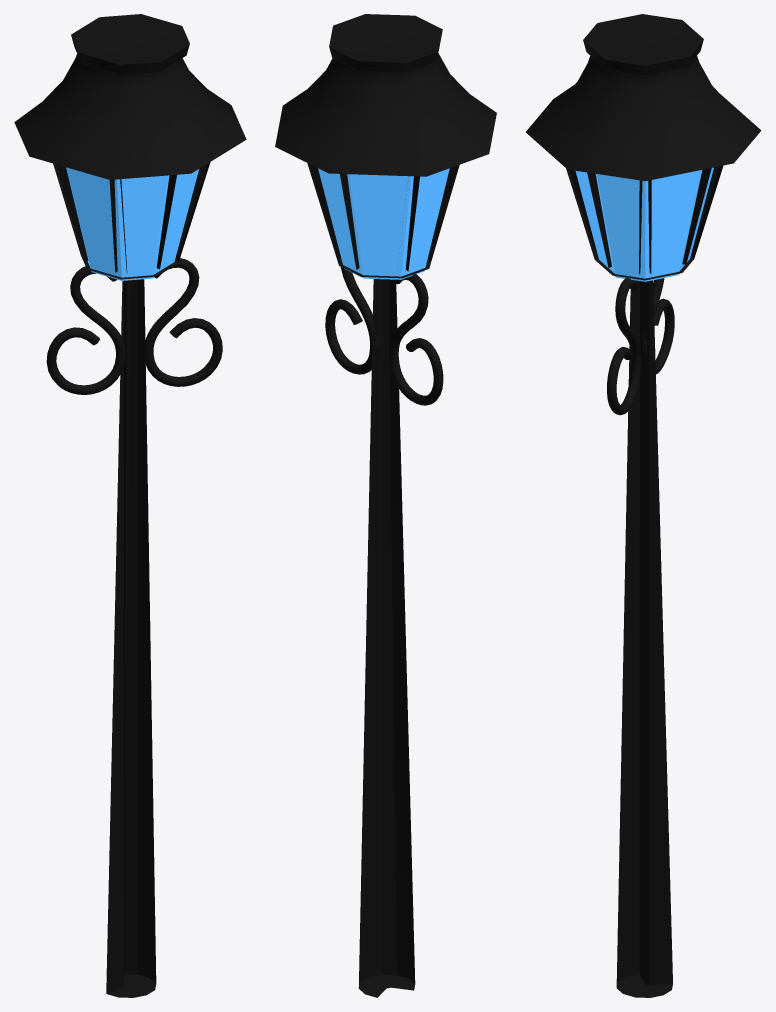
The model's file is lamp.fbx.
3 renders of one model, left to right at view 1: azimuth 30°, elevation 25°; view 2: azimuth 150°, elevation 25°; view 3: azimuth 270°, elevation 25°, orthographic.
Visible parts, largest first — view 1: LampPost2; view 2: LampPost2; view 3: LampPost2.
Boxes of the visible parts, x1,y1,x2,y2 form: LampPost2: [14, 14, 246, 997]; LampPost2: [275, 14, 496, 997]; LampPost2: [525, 14, 761, 997].
Size of the model in its own units: 169 by 747 by 169.
